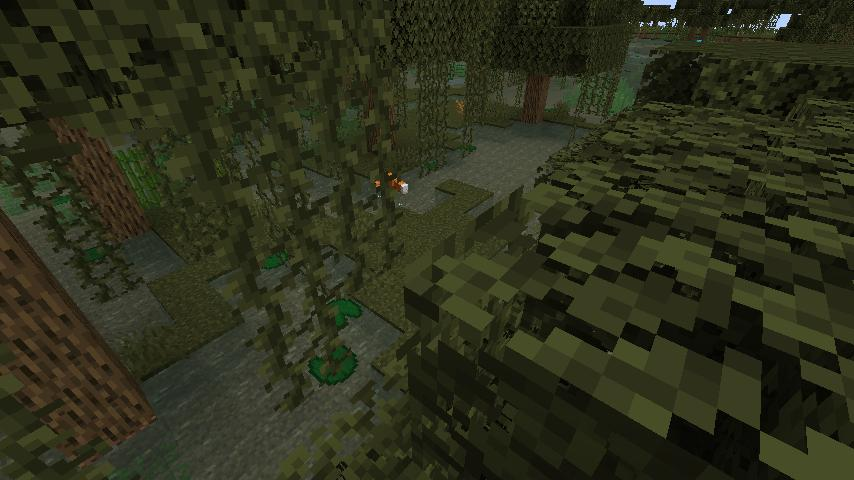fox: (372, 165, 415, 203)
